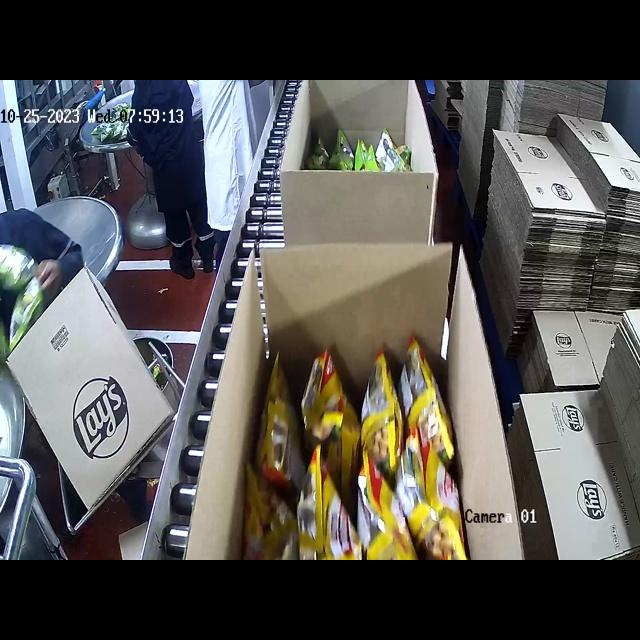salted: (242, 333, 468, 558)
yogurt: (306, 120, 426, 172)
